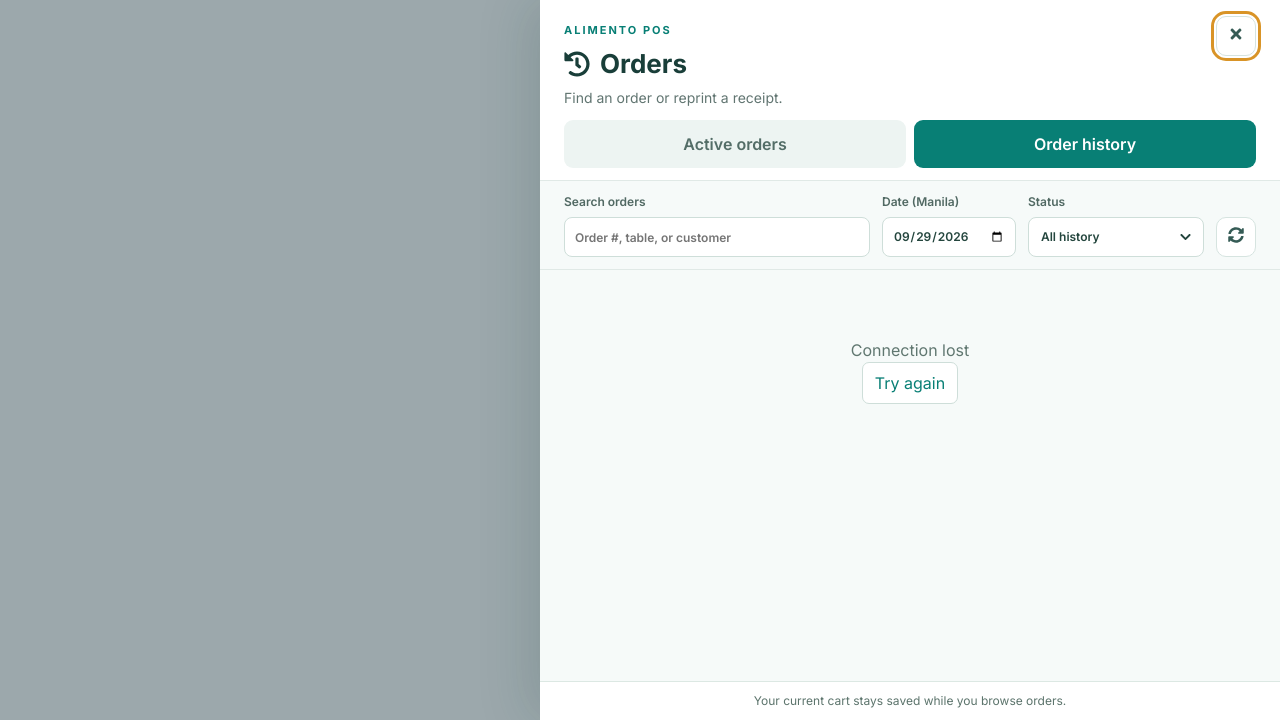
Scenario: retries failed requests
Expected: the message shows "Connection lost", x1=851 y1=340 x2=969 y2=360
Click the button "Try again": click(910, 383) x1=862 y1=362 x2=958 y2=404
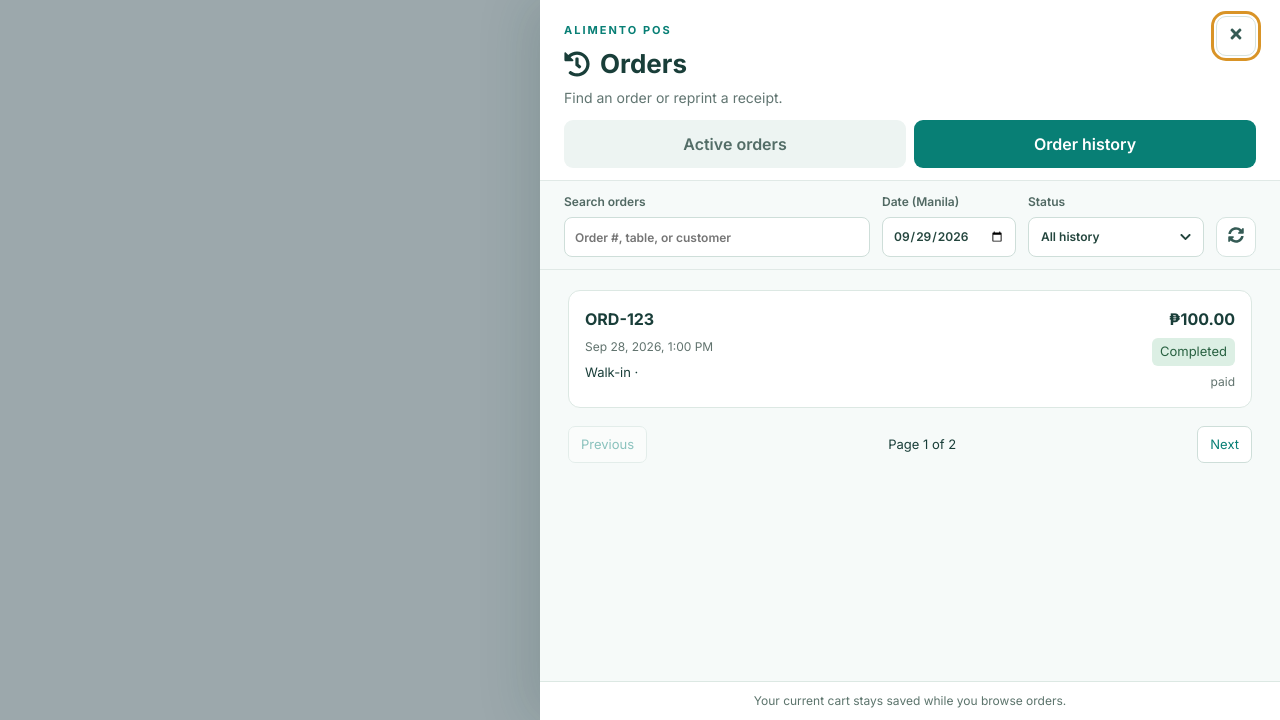
Expected: the text "ORD-123" is shown, x1=585 y1=309 x2=654 y2=329
